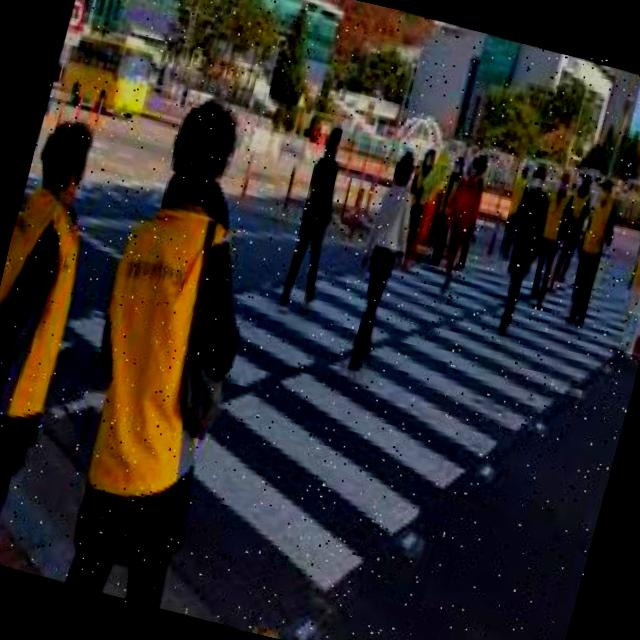Person: (35, 87, 298, 610), (0, 110, 116, 565), (331, 144, 427, 376), (273, 119, 363, 324), (484, 157, 560, 339), (559, 171, 626, 330), (428, 152, 493, 300), (521, 160, 584, 311), (390, 140, 444, 264), (420, 149, 469, 274), (607, 199, 640, 362)
